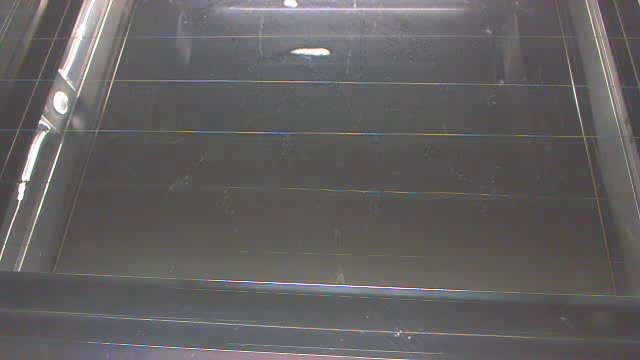alpha: (290, 46, 332, 58), (281, 1, 298, 8)
